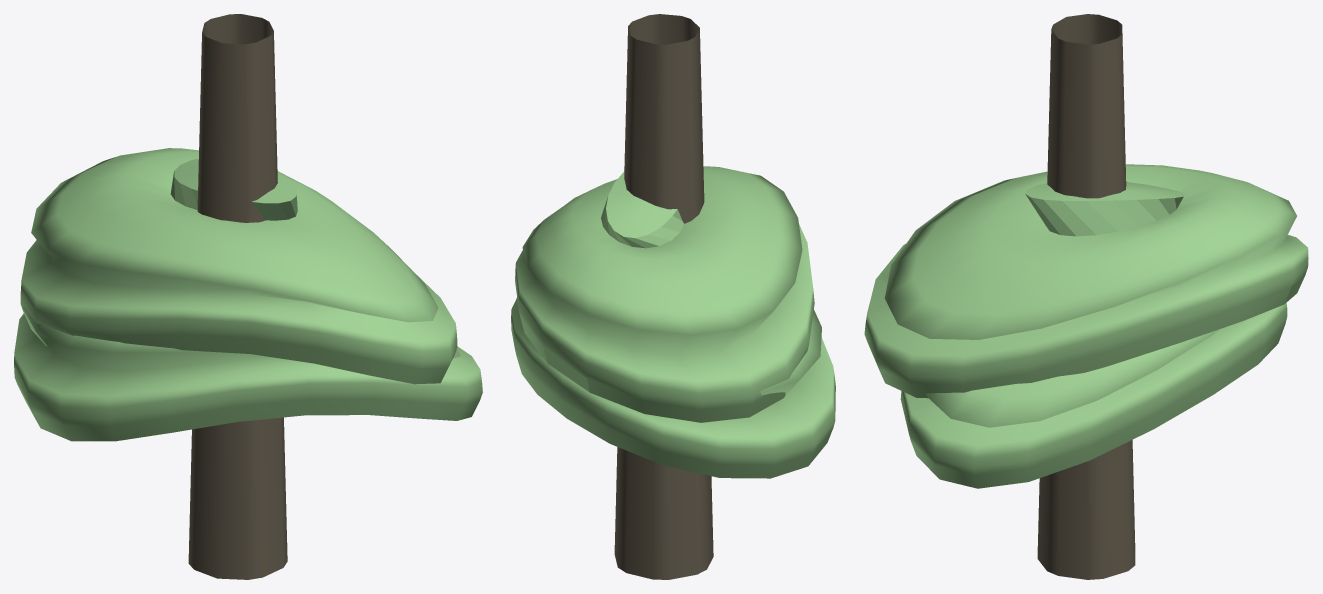
Rendered from tree 1.fbx.
3 views of the same model, side by side, from view 1: azimuth 30°, elevation 25°; view 2: azimuth 150°, elevation 25°; view 3: azimuth 270°, elevation 25° (orthographic).
Visible parts, largest first — view 1: arbre_1:arbre1_LD5, arbre_1:pCylinder1; view 2: arbre_1:arbre1_LD5, arbre_1:pCylinder1; view 3: arbre_1:arbre1_LD5, arbre_1:pCylinder1.
Part boxes in pixels (x1=…): arbre_1:arbre1_LD5: x1=14, y1=148, x2=482, y2=441; arbre_1:pCylinder1: x1=188, y1=14, x2=287, y2=579; arbre_1:arbre1_LD5: x1=511, y1=166, x2=835, y2=478; arbre_1:pCylinder1: x1=614, y1=14, x2=713, y2=579; arbre_1:arbre1_LD5: x1=864, y1=164, x2=1308, y2=488; arbre_1:pCylinder1: x1=1037, y1=14, x2=1135, y2=579.
Size of the model in its own units: 3450 by 4861 by 3695.
